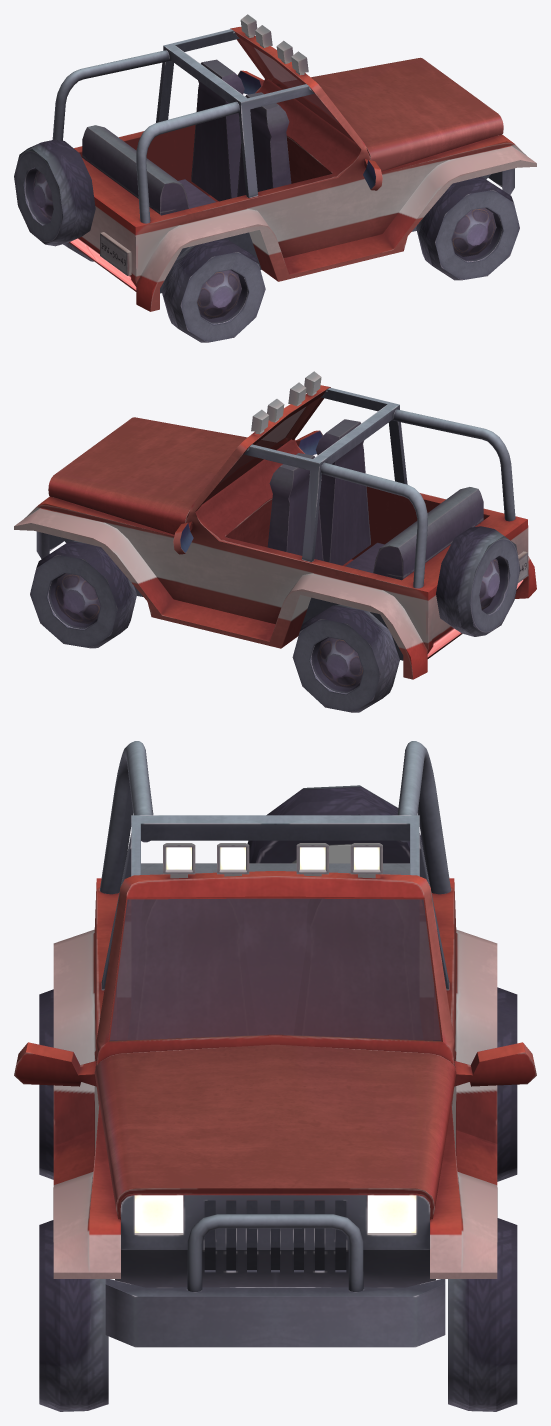
The model's file is jeep.glb.
3 renders of one model, top to bottom at view 1: azimuth 30°, elevation 25°; view 2: azimuth 150°, elevation 25°; view 3: azimuth 270°, elevation 25°, orthographic. The views are drawn at different scales.
Parts seen in each view (by area): view 1: car_body, Wheel_RL, Wheel_FL; view 2: car_body, Wheel_RR, Wheel_FR; view 3: car_body, Wheel_FR, Wheel_FL, Wheel_RR, Wheel_RL.
Part boxes in pixels (x1,y1,x2,y2): car_body: [14, 14, 536, 311]; Wheel_RL: [161, 238, 265, 342]; Wheel_FL: [416, 176, 519, 280]; car_body: [14, 371, 536, 679]; Wheel_RR: [292, 604, 399, 712]; Wheel_FR: [30, 541, 136, 648]; car_body: [14, 741, 536, 1347]; Wheel_FR: [448, 1218, 517, 1411]; Wheel_FL: [39, 1220, 108, 1411]; Wheel_RR: [497, 987, 517, 1181]; Wheel_RL: [39, 989, 53, 1179].
Size of the model in its own units: 2.79 by 1.48 by 1.62.
3 materials, 3 textured.
